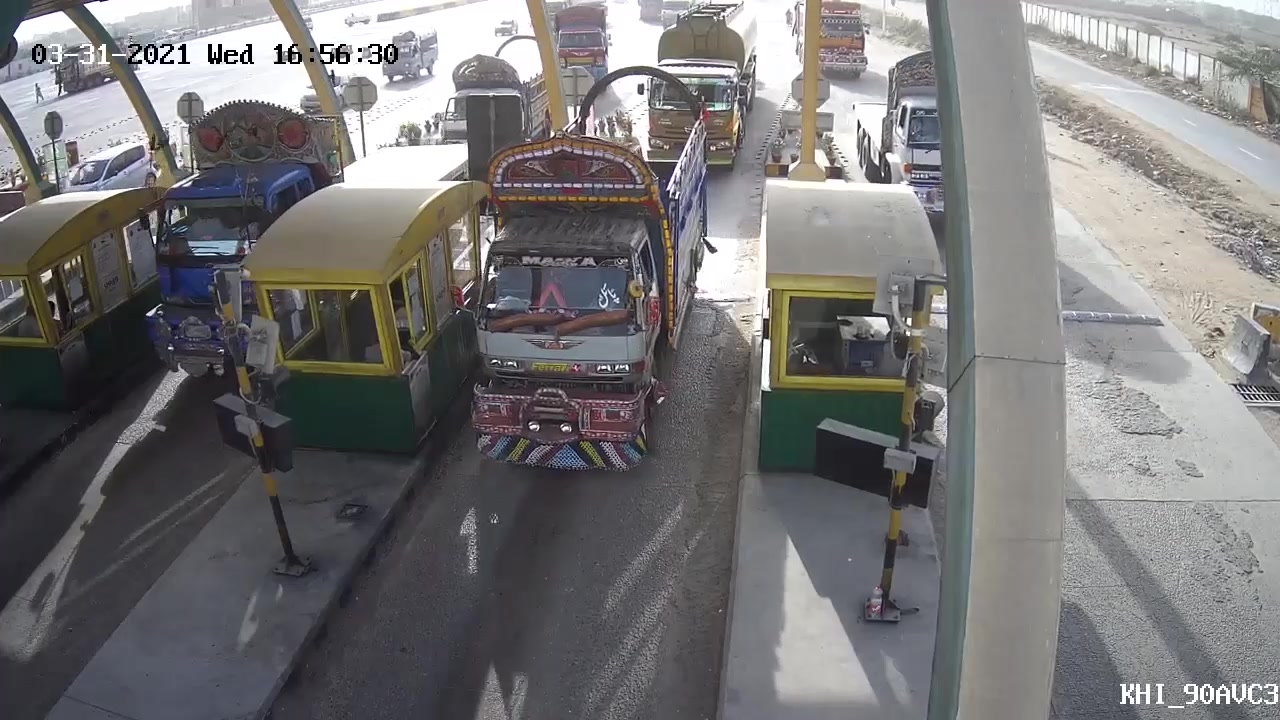F5: (456, 73, 709, 501)
